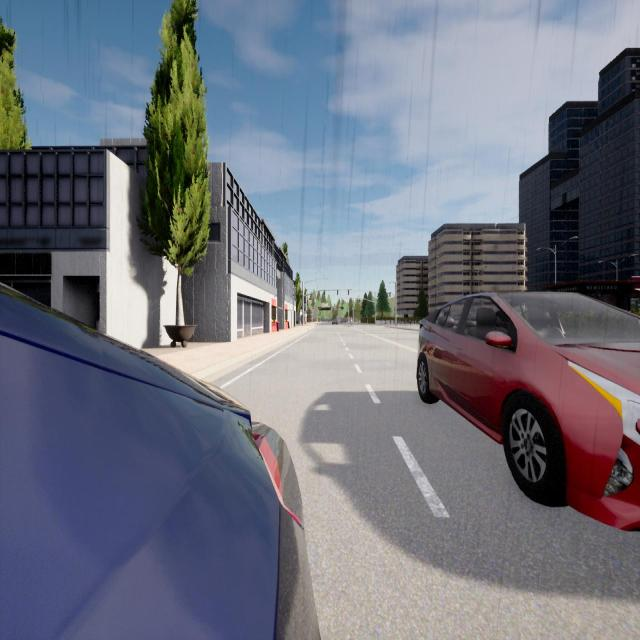Vehicle: (0, 283, 319, 640), (417, 292, 639, 529), (332, 318, 338, 324)
traffic_light: (304, 304, 306, 311), (374, 309, 376, 313), (389, 292, 391, 296), (348, 289, 349, 295), (324, 290, 325, 295), (337, 290, 338, 295), (359, 298, 360, 302), (342, 298, 342, 302), (350, 299, 350, 302)
